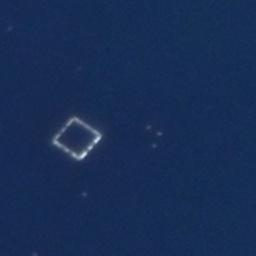square_solid: (49, 114, 105, 165)
